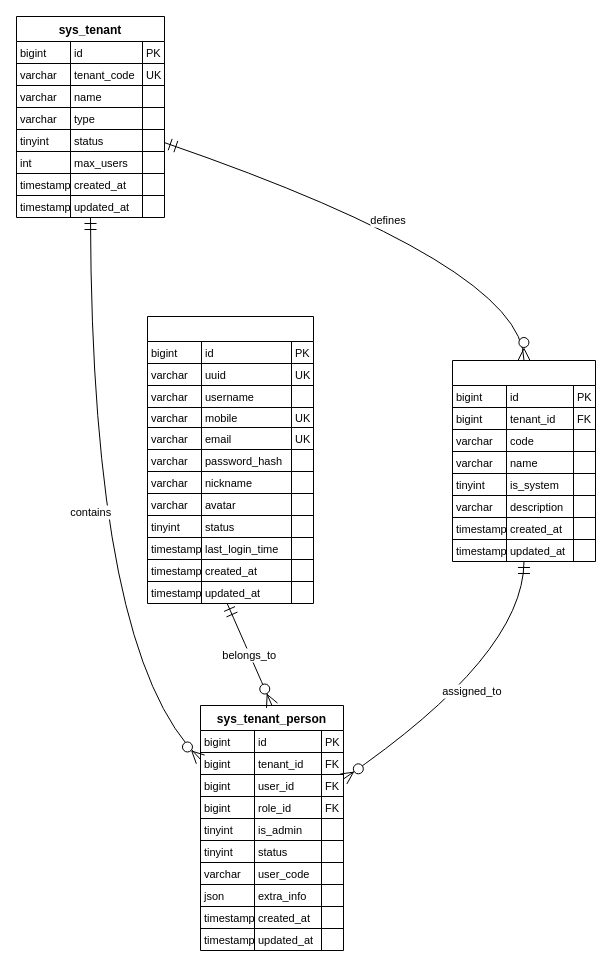
This 612x967 diagram has some shape labels left out. Each missing label, with the box of its shape:
sys_person: (146, 316, 314, 604)
sys_person_roles(冗余): (452, 360, 596, 562)
